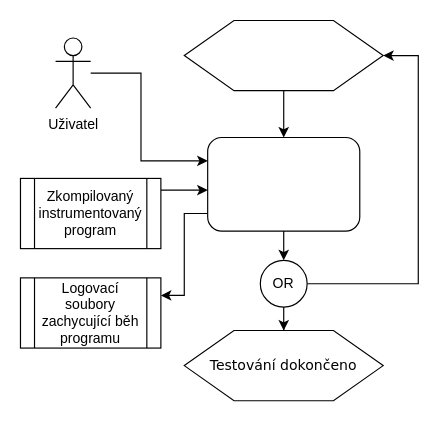
Some shapes in this 448 by 421 pixel diagram are drawn without their labels. The shapes that lost their labels are listed below. From the top down, each one's box as (x1, y1, x2, y2) in pixels, then its label:
(183, 19, 383, 91): Potřeba testování
(207, 136, 360, 231): Spuštění programu
